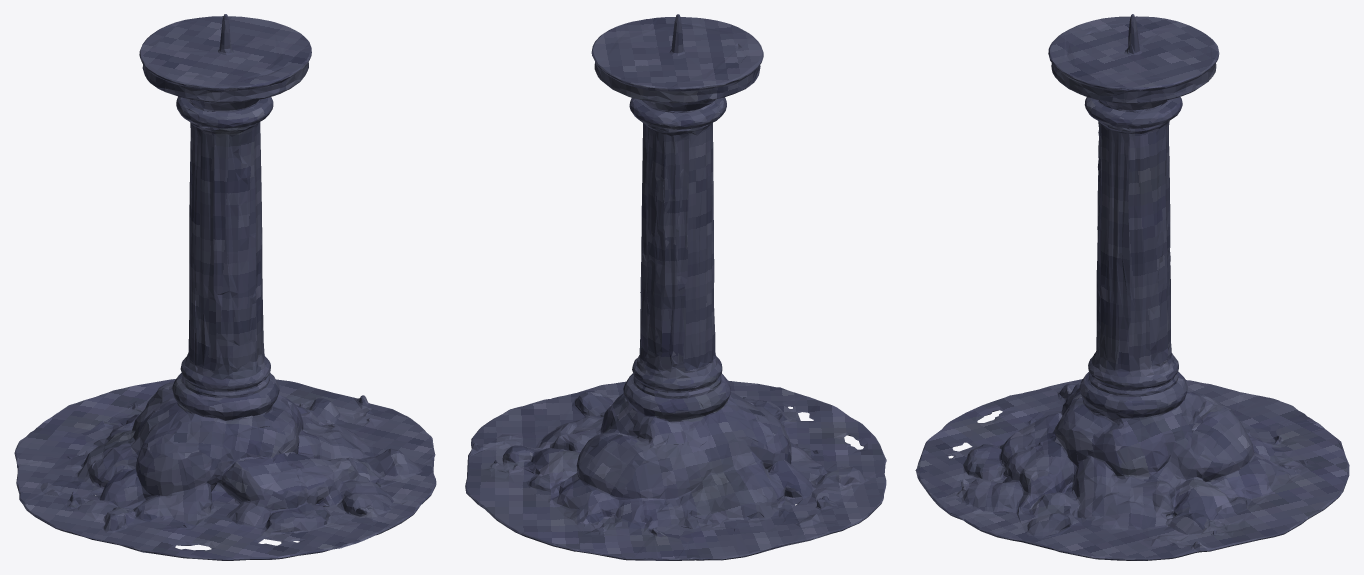
The model's file is solitude-pillar-4.collider.glb.
3 views of the same model, side by side, from view 1: azimuth 30°, elevation 25°; view 2: azimuth 150°, elevation 25°; view 3: azimuth 270°, elevation 25° (orthographic).
Visible parts, largest first — view 1: temp_mesh.ply; view 2: temp_mesh.ply; view 3: temp_mesh.ply.
Part boxes in pixels (<box>): temp_mesh.ply: <box>14,14,436,560</box>; temp_mesh.ply: <box>465,14,886,560</box>; temp_mesh.ply: <box>915,14,1349,560</box>.
Bounding box in the file's own units: 1.73 × 1.97 × 1.71.
Materials: 1 (1 with a texture image).
